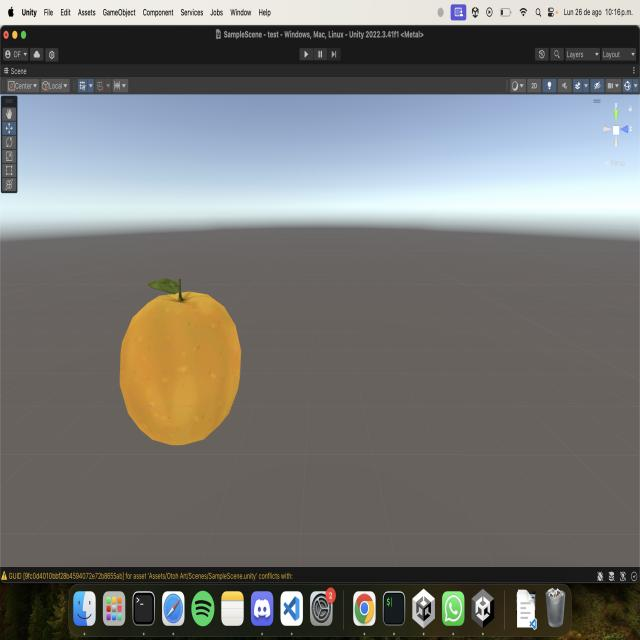oranges: (115, 274, 248, 458)
